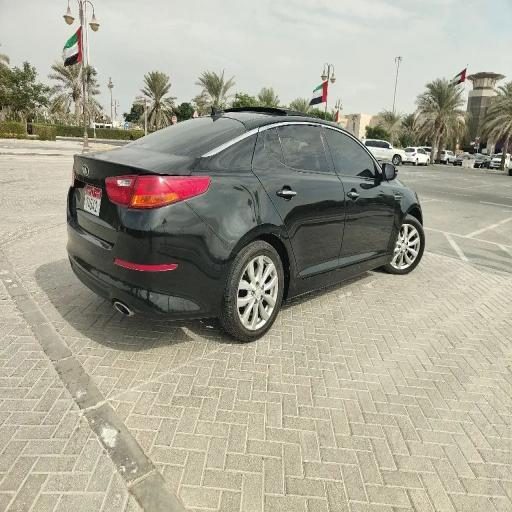license-plates: (84, 184, 102, 217)
